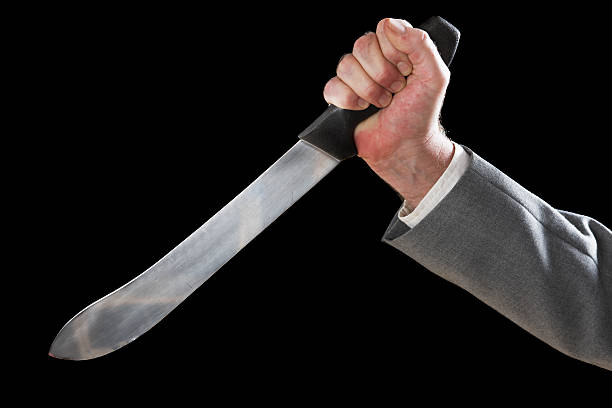knife: (44, 11, 463, 364)
